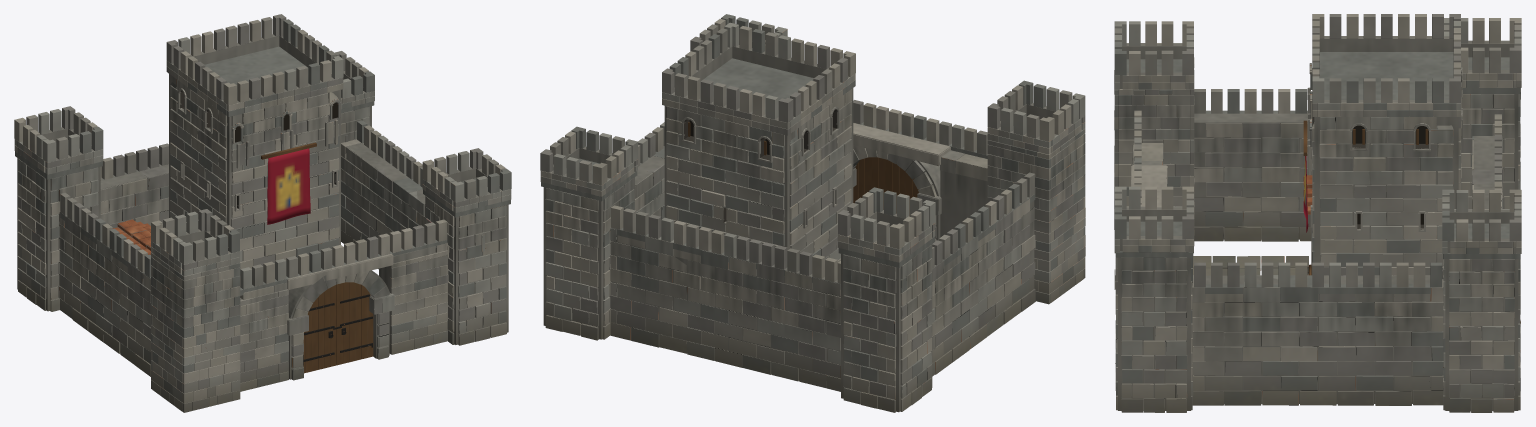
Rendered from SM_CastillaV11_Mapa.fbx.
3 renders of one model, left to right at view 1: azimuth 30°, elevation 25°; view 2: azimuth 150°, elevation 25°; view 3: azimuth 270°, elevation 25°, orthographic. The views are drawn at different scales.
Visible parts, largest first — view 1: SM_CastillaV11_Mapa; view 2: SM_CastillaV11_Mapa; view 3: SM_CastillaV11_Mapa.
Part boxes in pixels (left/top/right/bottom): SM_CastillaV11_Mapa: left=14, top=14, right=511, bottom=412; SM_CastillaV11_Mapa: left=540, top=14, right=1085, bottom=412; SM_CastillaV11_Mapa: left=1114, top=14, right=1521, bottom=412.
Size of the model in its own units: 93.82 by 64.98 by 84.17.
1 material, 1 textured.
